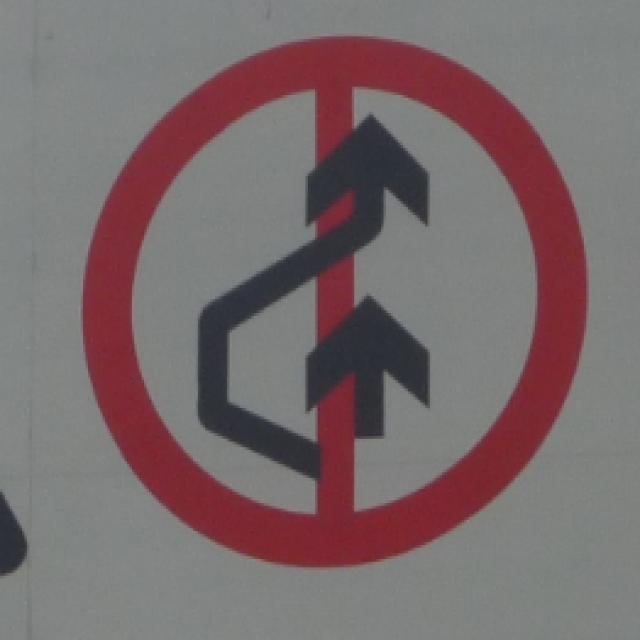Not that Direction: (77, 34, 589, 575)
